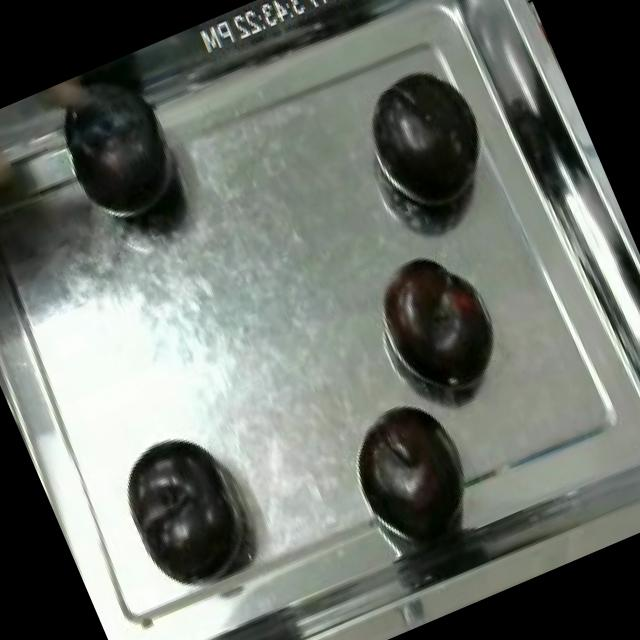Fruit: (37, 54, 202, 244), (104, 420, 266, 602), (346, 52, 506, 228), (361, 232, 513, 406), (339, 387, 476, 532)
